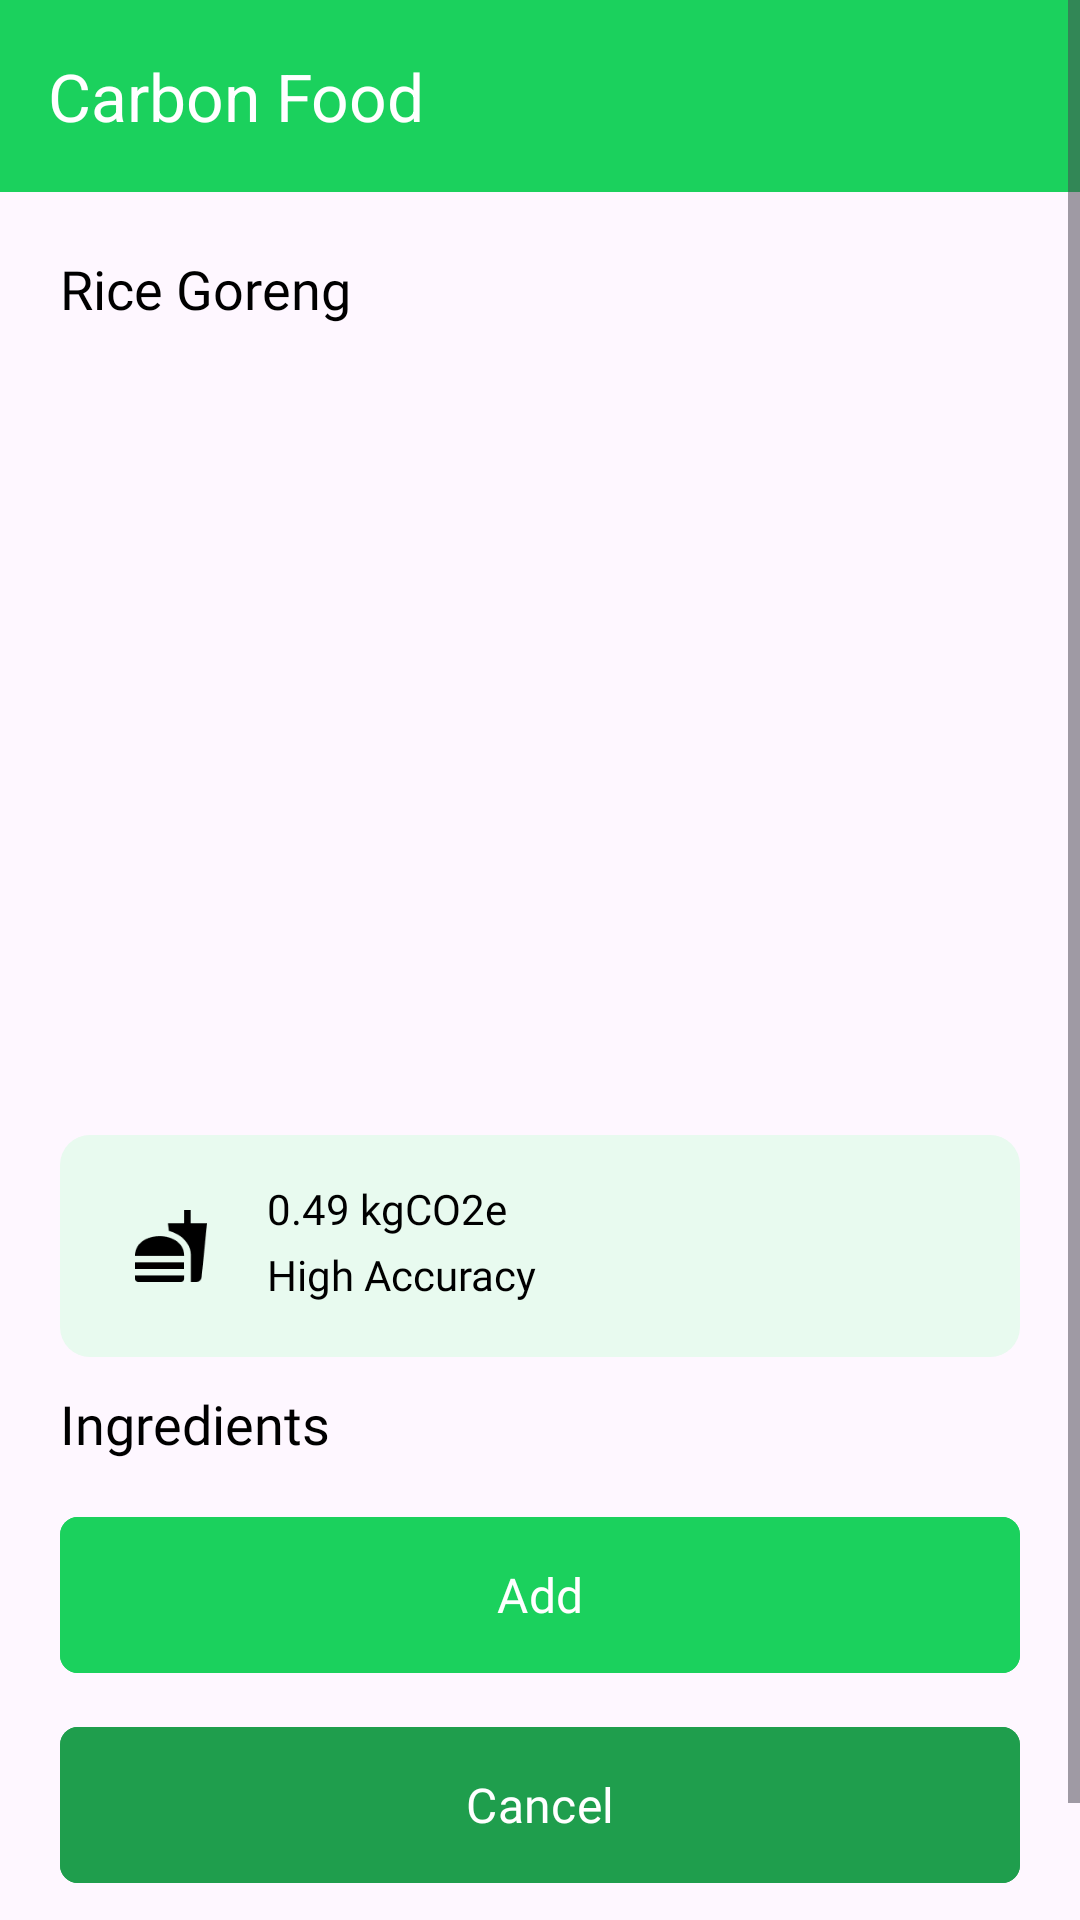

Locate icon controls on the screen. Image size 1080px×1920px, boxes as [left=x1, top=y1, right=x2, bottom=y2].
food: [left=135, top=1210, right=207, bottom=1282]
